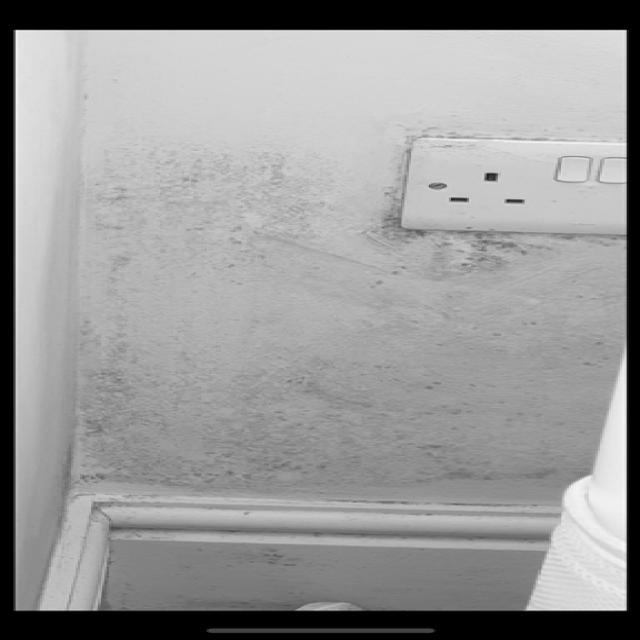stain marks: (77, 77, 626, 513), (103, 538, 322, 610)
